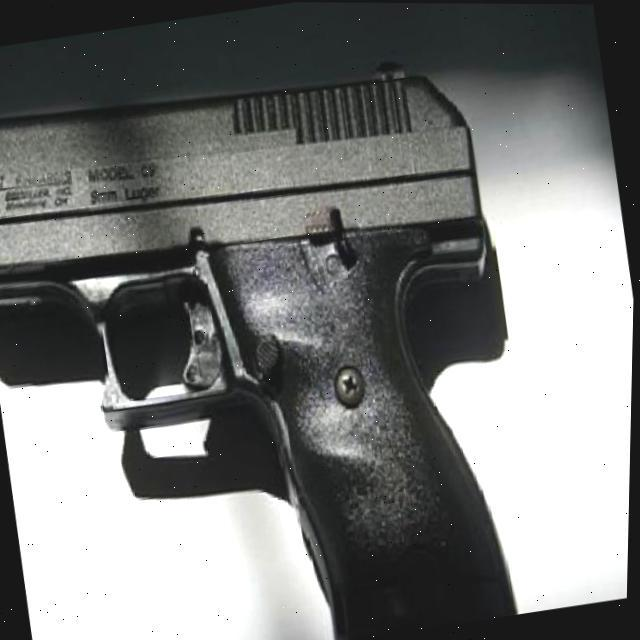gun: (0, 33, 556, 640)
